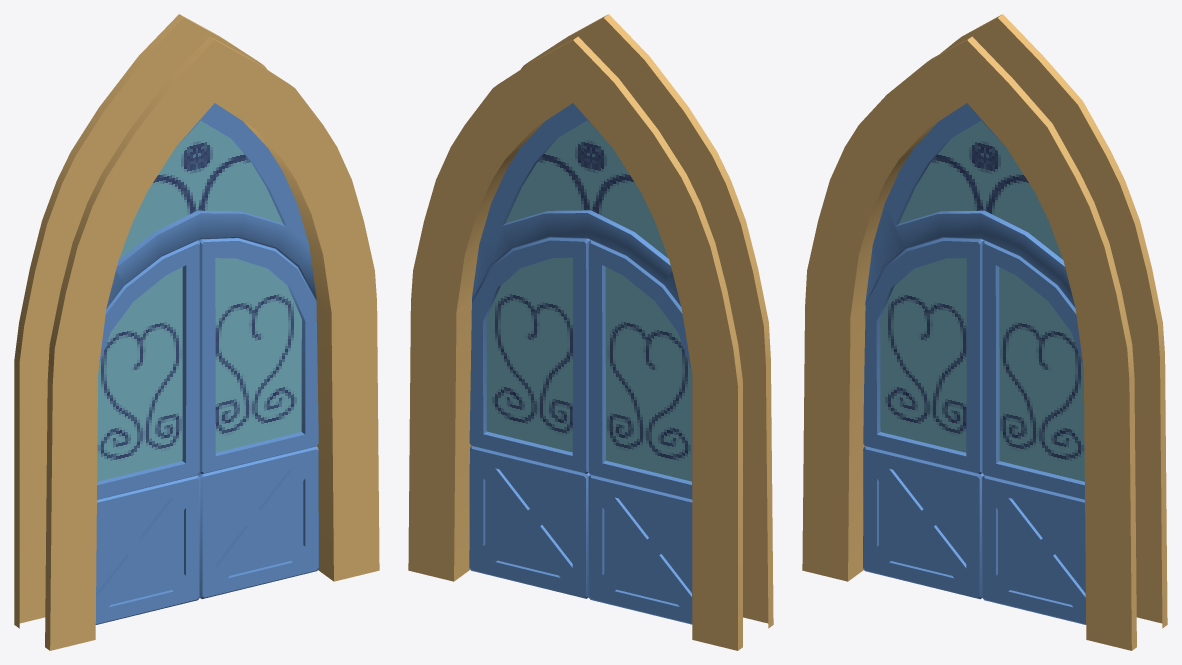
The model's file is Garden Doors.fbx.
3 renders of one model, left to right at view 1: azimuth 30°, elevation 25°; view 2: azimuth 150°, elevation 25°; view 3: azimuth 330°, elevation 25°, orthographic.
Parts seen in each view (by area): view 1: Garden Doors, Garden Door R, Garden Door R.002; view 2: Garden Doors, Garden Door R, Garden Door R.002; view 3: Garden Doors, Garden Door R.002, Garden Door R.
Boxes of the visible parts, x1=… form: Garden Doors: x1=14, y1=14, x2=379, y2=650; Garden Door R: x1=198, y1=238, x2=318, y2=598; Garden Door R.002: x1=95, y1=240, x2=199, y2=624; Garden Doors: x1=408, y1=14, x2=773, y2=650; Garden Door R: x1=469, y1=237, x2=589, y2=598; Garden Door R.002: x1=588, y1=240, x2=692, y2=624; Garden Doors: x1=802, y1=14, x2=1167, y2=650; Garden Door R.002: x1=863, y1=238, x2=983, y2=599; Garden Door R: x1=982, y1=240, x2=1085, y2=624.
Size of the model in its own units: 373 by 618 by 70.02.
2 materials, 1 textured.
